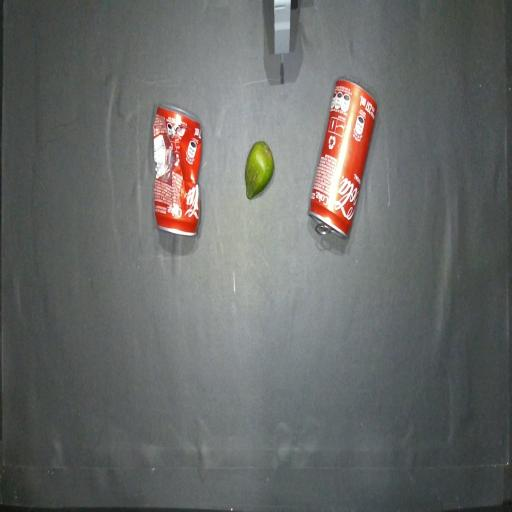higo: (245, 141, 274, 199)
lata: (308, 79, 377, 237)
lata_defectuoso: (153, 104, 202, 236)
